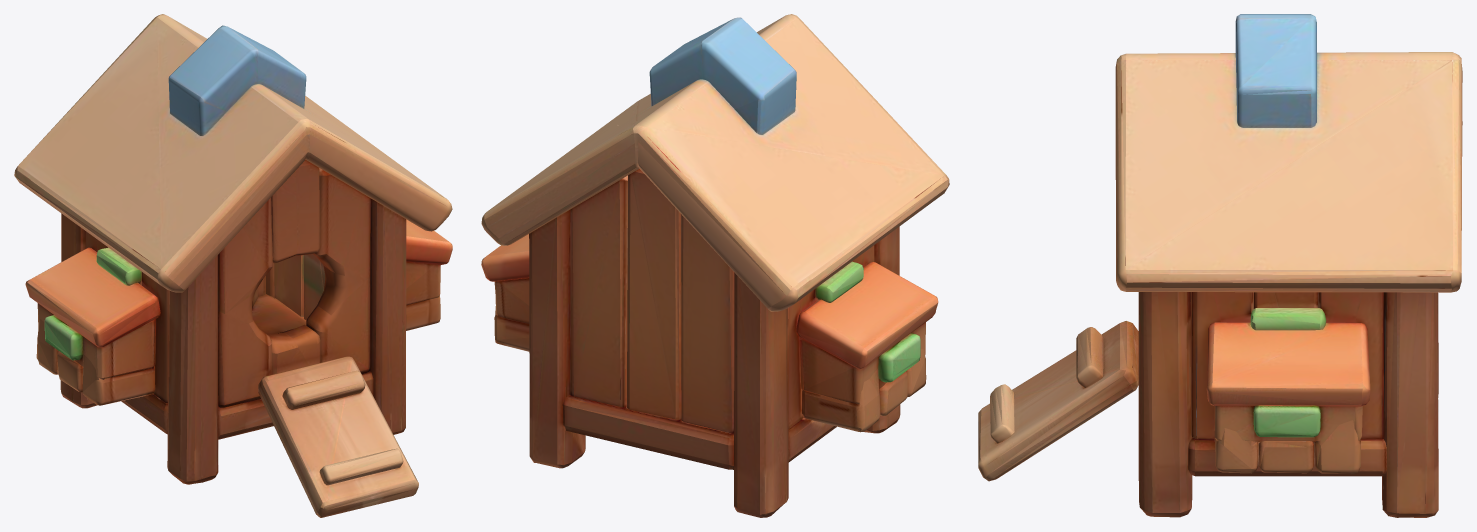
File: coop.glb
3 views of the same model, side by side, from view 1: azimuth 30°, elevation 25°; view 2: azimuth 150°, elevation 25°; view 3: azimuth 270°, elevation 25° (orthographic). The views are drawn at different scales.
Visible parts, largest first — view 1: mesh_node; view 2: mesh_node; view 3: mesh_node.
Boxes of the visible parts, <box> form: mesh_node: <box>14,14,452,517</box>; mesh_node: <box>481,14,949,517</box>; mesh_node: <box>978,14,1462,517</box>.
Bounding box in the file's own units: 1 × 1 × 0.9961.
Materials: 1 (1 with a texture image).
